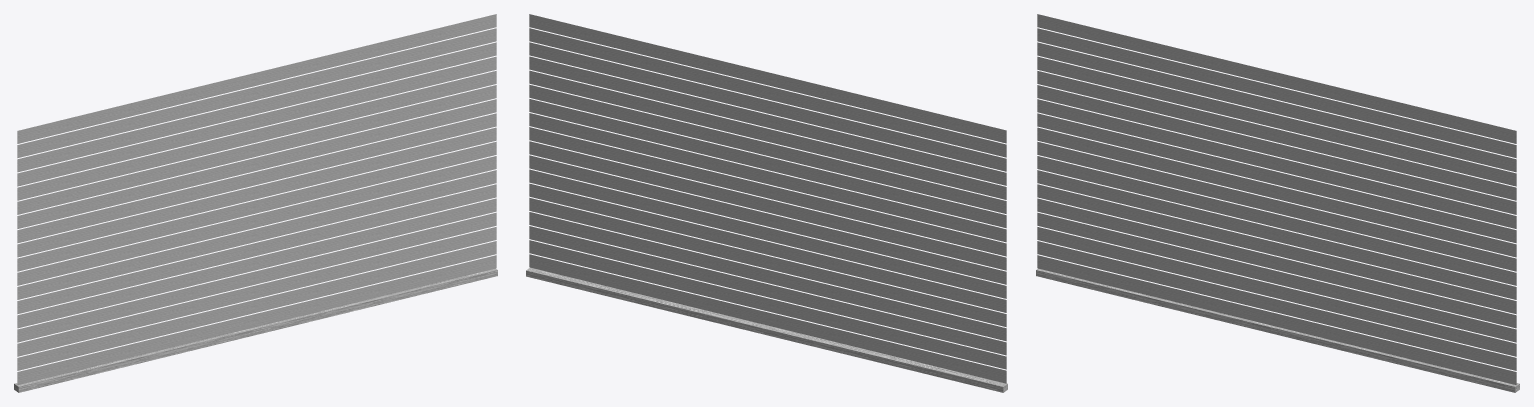
File: Storen.glb
3 renders of one model, left to right at view 1: azimuth 30°, elevation 25°; view 2: azimuth 150°, elevation 25°; view 3: azimuth 330°, elevation 25°, orthographic.
Visible parts, largest first — view 1: Plane, Plane.001; view 2: Plane, Plane.001; view 3: Plane, Plane.001.
Boxes of the visible parts, x1,y1,x2,y2 form: Plane: [17, 14, 496, 384]; Plane.001: [14, 268, 497, 392]; Plane: [529, 14, 1006, 383]; Plane.001: [526, 267, 1007, 392]; Plane: [1037, 14, 1516, 384]; Plane.001: [1036, 268, 1519, 392].
Size of the model in its own units: 4.94 by 2.57 by 0.0814.
Materials: 1 (1 with a texture image).
